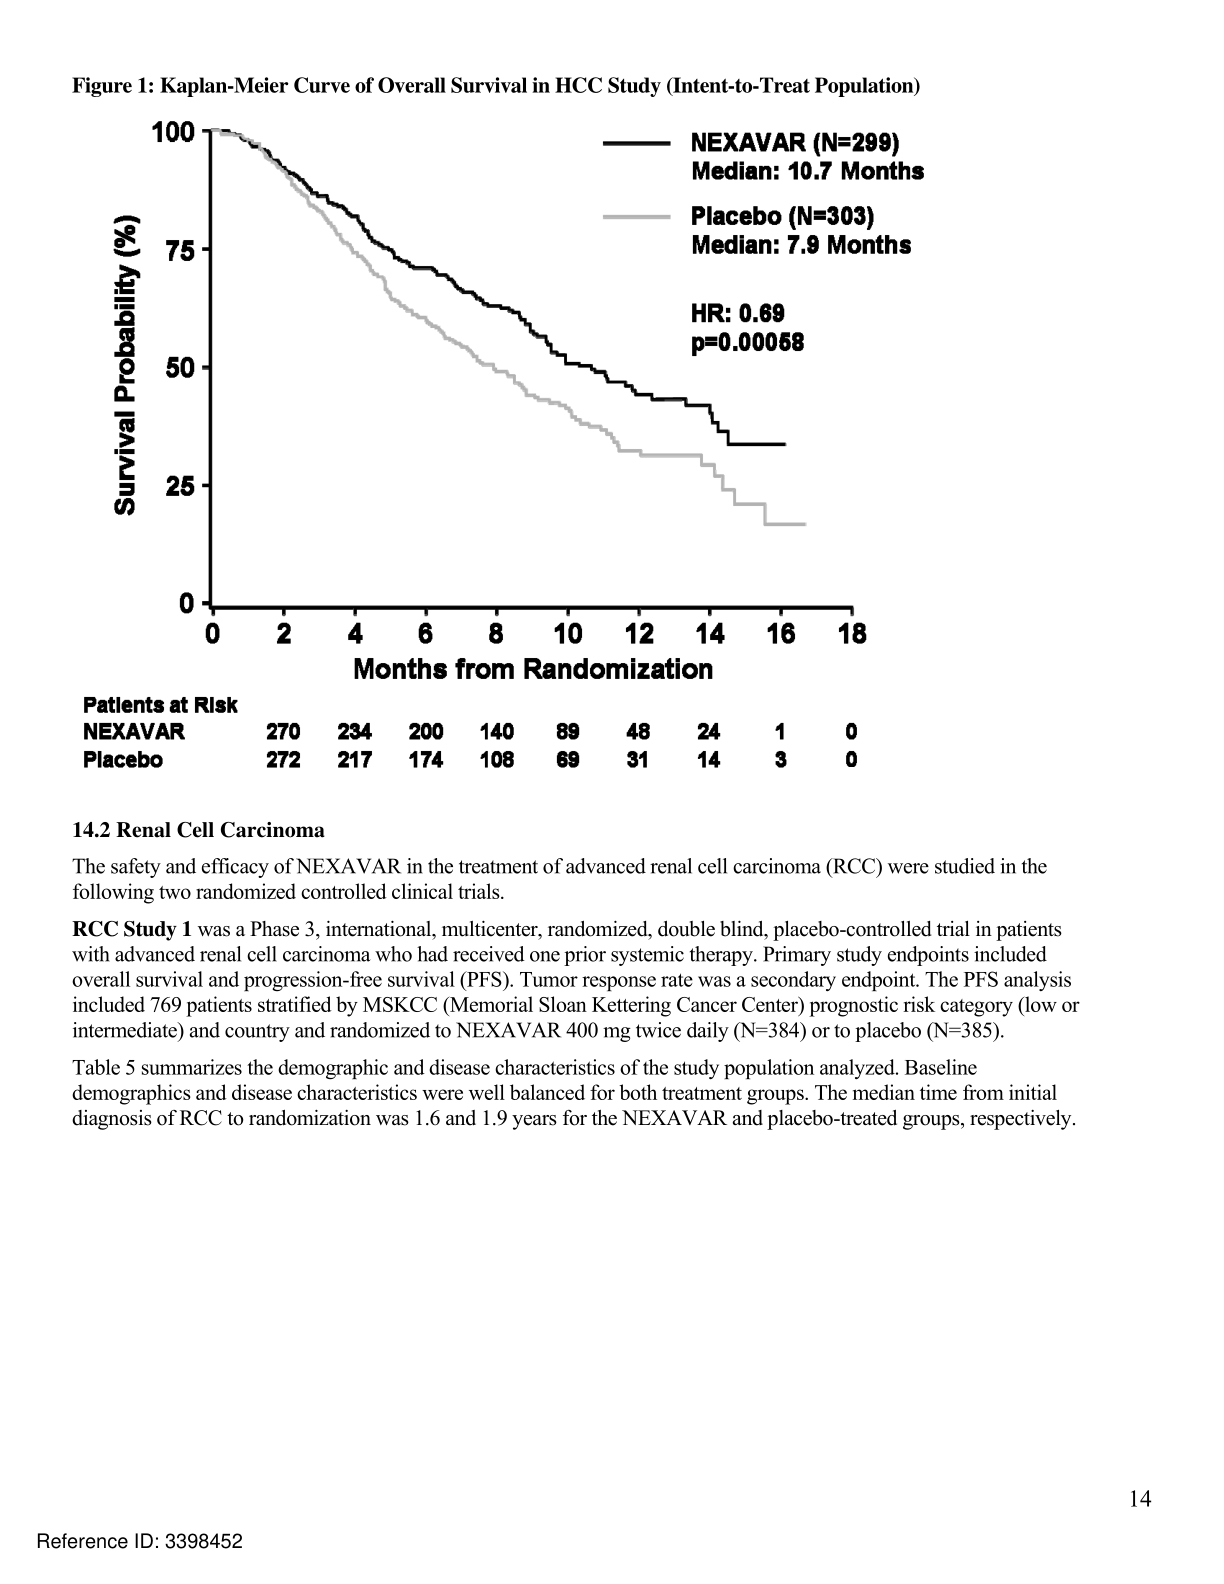nolines: (80, 719, 861, 771)
